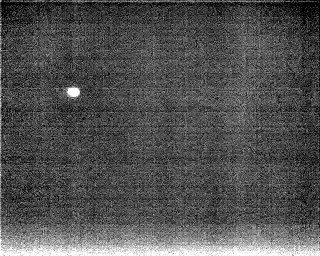AIRPLANE: (65, 85, 82, 100)
